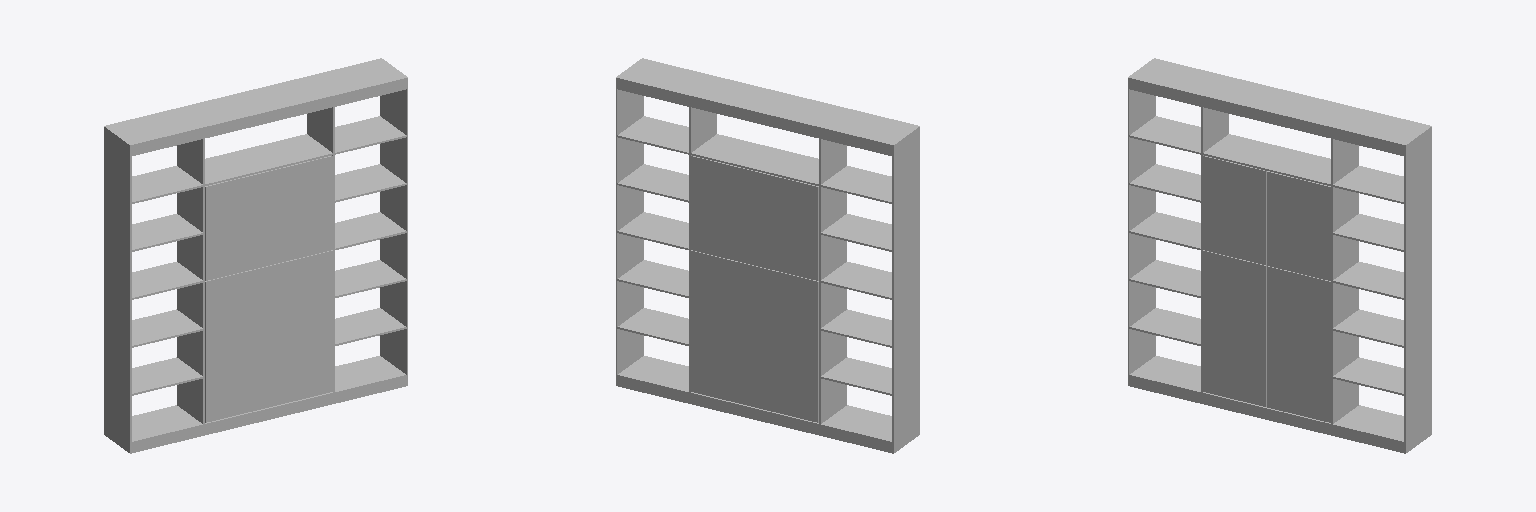
3 renders of one model, left to right at view 1: azimuth 30°, elevation 25°; view 2: azimuth 150°, elevation 25°; view 3: azimuth 330°, elevation 25°, orthographic.
Visible parts, largest first — view 1: 立方体, 立方体.4, 立方体.3, 立方体.1, 立方体.2; view 2: 立方体, 立方体.4, 立方体.3, 立方体.1, 立方体.2; view 3: 立方体, 立方体.3, 立方体.4, 立方体.2, 立方体.1.
Part boxes in pixels (x1,y1,x2,y2): 立方体: (104, 58, 407, 453); 立方体.4: (205, 266, 268, 422); 立方体.3: (269, 250, 332, 406); 立方体.1: (205, 171, 268, 280); 立方体.2: (269, 156, 332, 265); 立方体: (616, 58, 919, 453); 立方体.4: (755, 266, 818, 422); 立方体.3: (691, 250, 754, 406); 立方体.1: (755, 171, 818, 280); 立方体.2: (691, 156, 754, 265); 立方体: (1128, 58, 1431, 453); 立方体.3: (1267, 266, 1330, 422); 立方体.4: (1203, 250, 1266, 406); 立方体.2: (1267, 171, 1330, 280); 立方体.1: (1203, 156, 1266, 265).
Bounding box in the file's own units: 304 × 322 × 50.